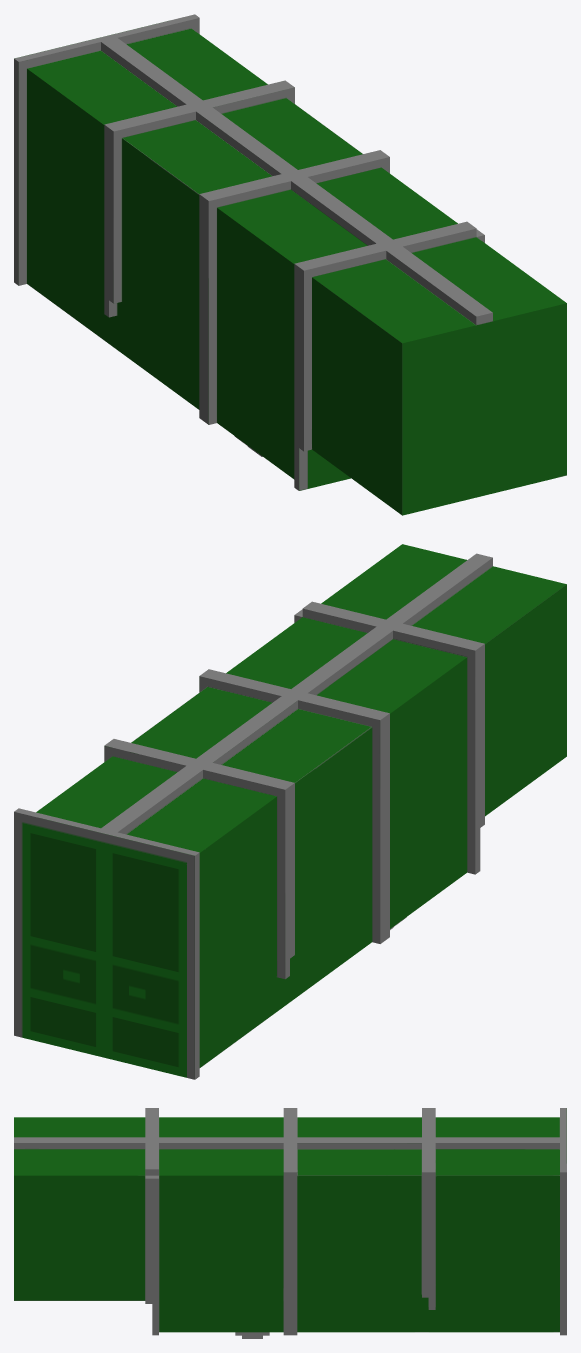
File: Trailer_Box_Var1_3.obj
3 renders of one model, top to bottom at view 1: azimuth 30°, elevation 25°; view 2: azimuth 150°, elevation 25°; view 3: azimuth 270°, elevation 25°, orthographic. The views are drawn at different scales.
Parts seen in each view (by area): view 1: Trailer_Box_Var1_3_Trailer_Box_Var1_3.001; view 2: Trailer_Box_Var1_3_Trailer_Box_Var1_3.001; view 3: Trailer_Box_Var1_3_Trailer_Box_Var1_3.001.
Boxes of the visible parts, x1,y1,x2,y2 form: Trailer_Box_Var1_3_Trailer_Box_Var1_3.001: (14, 14, 566, 515); Trailer_Box_Var1_3_Trailer_Box_Var1_3.001: (14, 544, 566, 1079); Trailer_Box_Var1_3_Trailer_Box_Var1_3.001: (14, 1108, 566, 1338).
Bounding box in the file's own units: 2.2 × 2.8 × 8.
